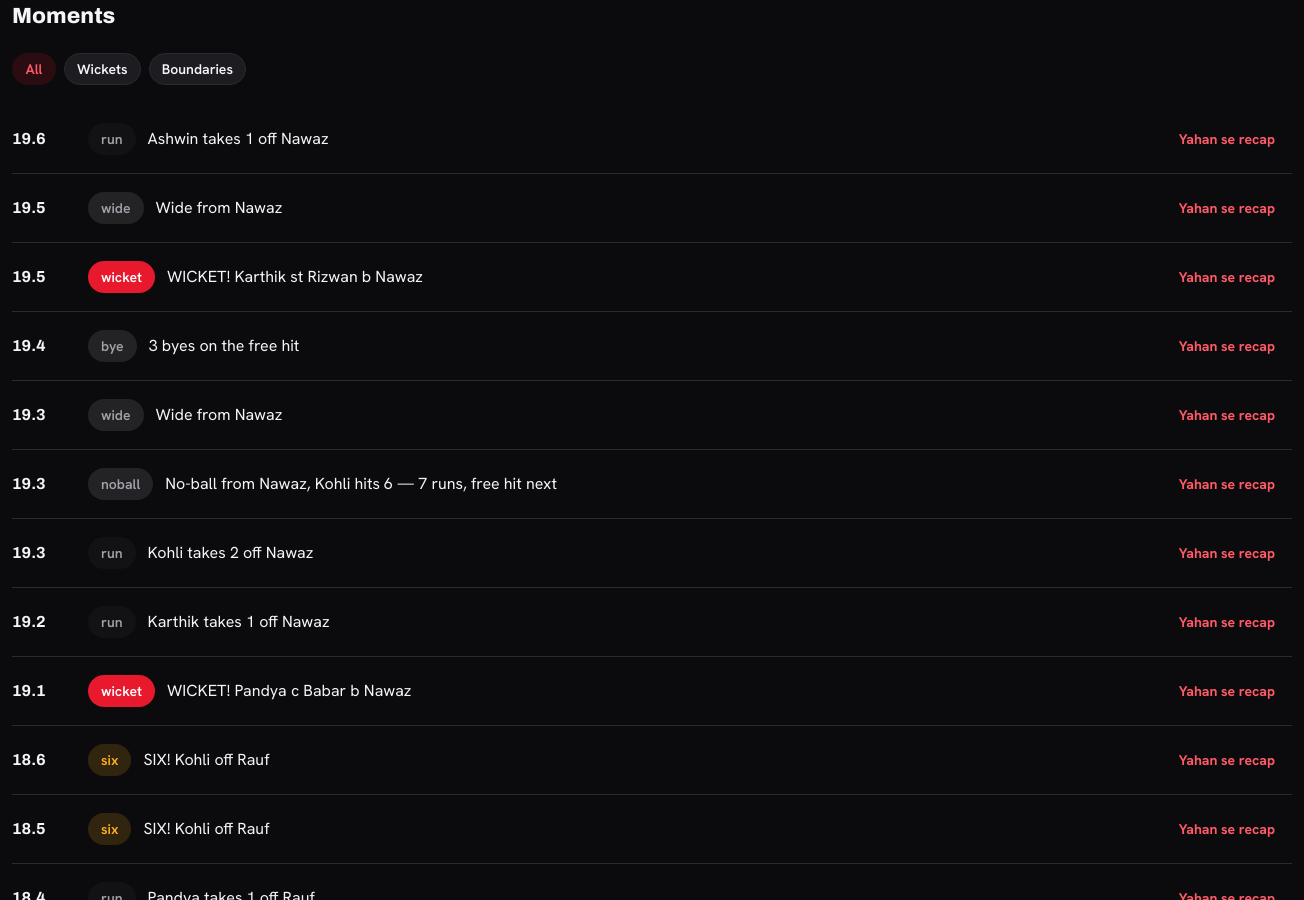
Test: MomentsTab › filters by tone through the chips
Click the button "Wickets".
click(102, 69)  # box [64,53,141,85]
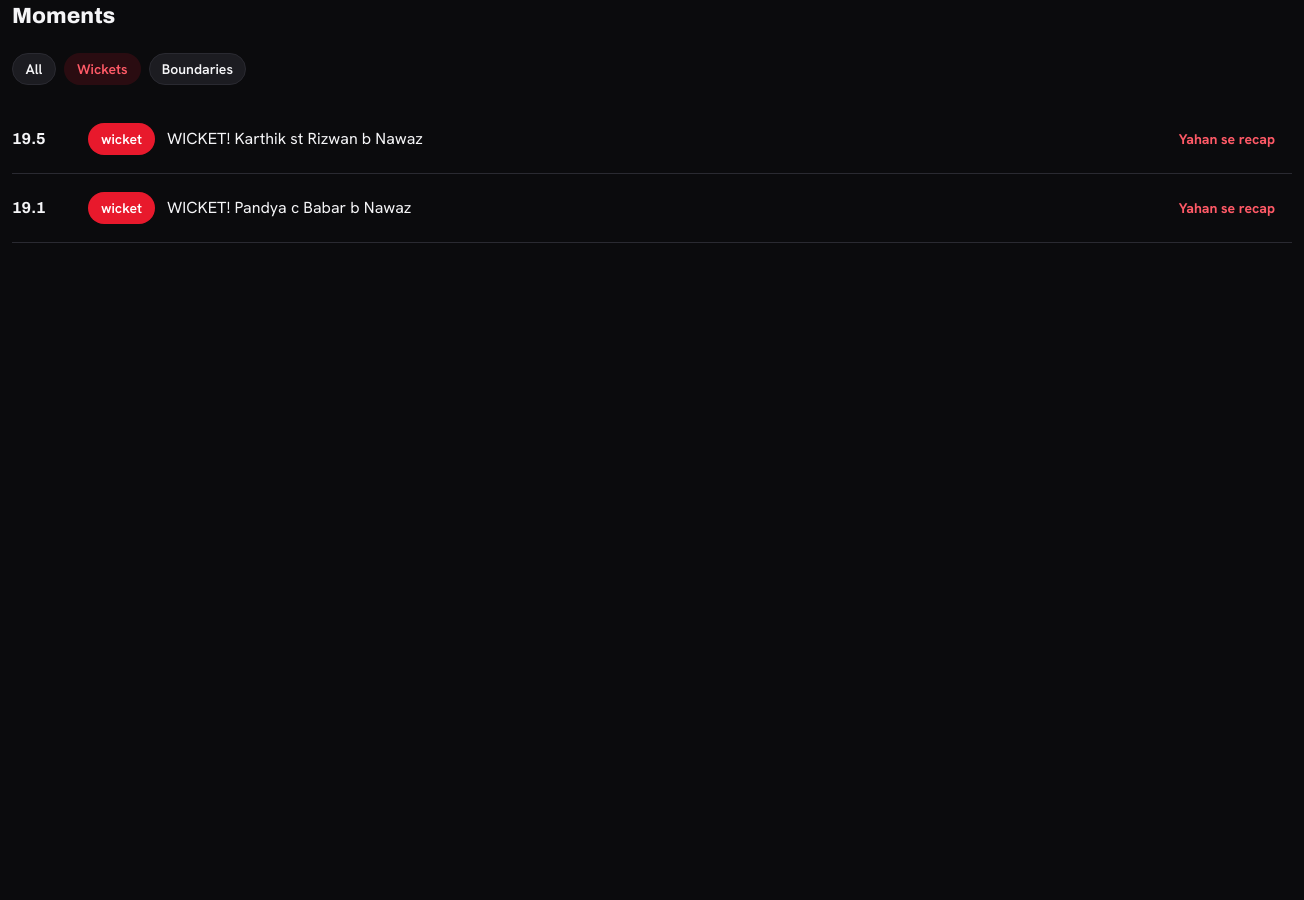
Check: the number of list items is 2, box [12,105,1292,174]; [12,174,1292,243]
Click the button "Boundaries".
click(197, 69)  # box [149,53,246,85]
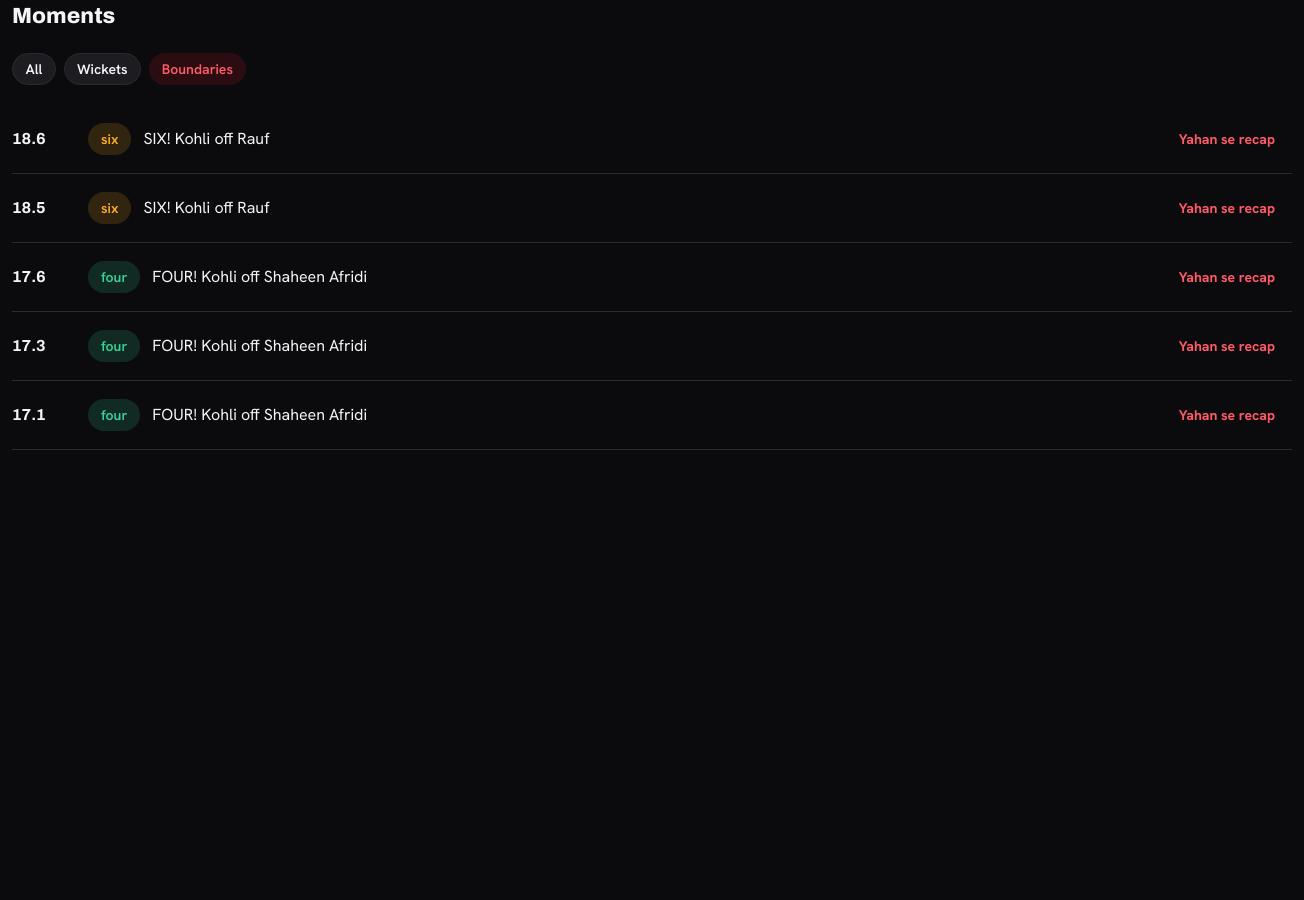
Check: the number of list items is 5, box [12,105,1292,174]; [12,174,1292,243]; [12,243,1292,312]; [12,312,1292,381]; [12,381,1292,450]
